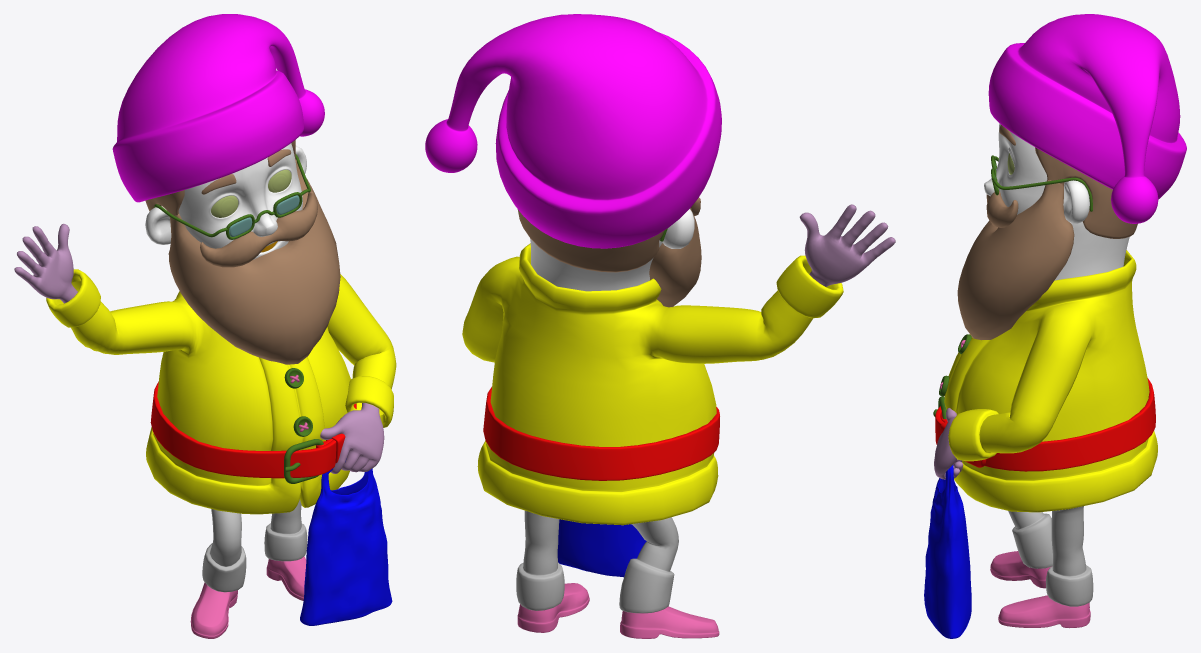
Rendered from PapaNoel_Varios_Materiales.glb.
3 renders of one model, left to right at view 1: azimuth 30°, elevation 25°; view 2: azimuth 150°, elevation 25°; view 3: azimuth 270°, elevation 25°, orthographic. The views are drawn at different scales.
Visible parts, largest first — view 1: Abrigo, Gorro, Pelo, Bolsa, Cara, Manos, Cinturon, Pantalones, Material_Negro, Material_Dorado, Ojos, Cristal; view 2: Abrigo, Gorro, Cinturon, Pantalones, Pelo, Manos, Material_Negro, Bolsa, Cara; view 3: Abrigo, Gorro, Pelo, Cara, Bolsa, Pantalones, Cinturon, Material_Negro, Material_Dorado, Manos.
Part boxes in pixels (x1,y1,x2,y2): Abrigo: (46,269,396,514); Gorro: (112,14,324,202); Pelo: (145,140,340,364); Bolsa: (300,461,392,625); Cara: (145,143,306,259); Manos: (14,223,384,473); Cinturon: (150,381,356,478); Pantalones: (202,499,307,592); Material_Negro: (190,375,308,638); Material_Dorado: (154,154,323,483); Ojos: (211,169,291,217); Cristal: (229,195,299,236); Abrigo: (462,243,843,525); Gorro: (425,14,721,248); Cinturon: (483,387,719,480); Pantalones: (516,510,678,613); Pelo: (517,197,701,307); Manos: (799,204,895,286); Material_Negro: (517,583,719,638); Bolsa: (557,519,646,577); Cara: (530,209,694,291); Abrigo: (944,250,1157,512); Gorro: (988,14,1186,223); Pelo: (957,125,1137,340); Cara: (984,123,1129,280); Bolsa: (924,464,971,638); Pantalones: (1008,506,1093,606); Cinturon: (935,378,1155,471); Material_Negro: (940,340,1090,628); Material_Dorado: (933,155,1092,419); Manos: (934,408,963,479).
Size of the model in its own units: 1.24 by 1.76 by 0.7263.
